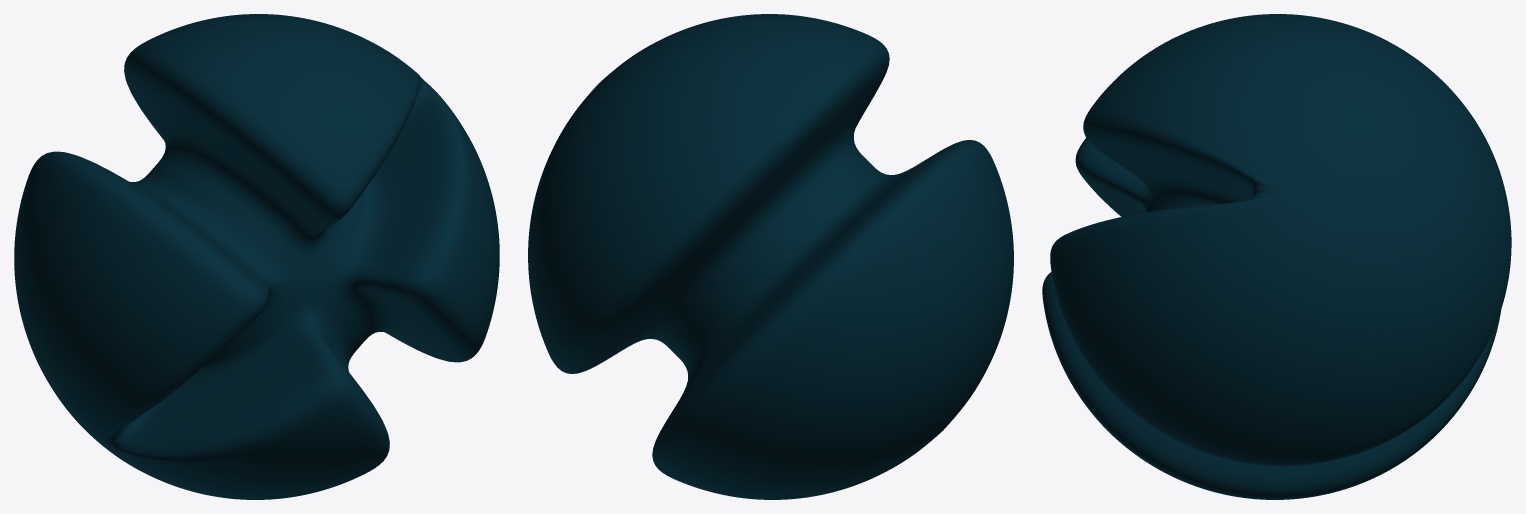
File: home.gltf
The picture shows the model from 3 angles, left to right: view 1: azimuth 30°, elevation 25°; view 2: azimuth 150°, elevation 25°; view 3: azimuth 270°, elevation 25°; orthographic projection.
Visible parts, largest first — view 1: Sphere.018; view 2: Sphere.018; view 3: Sphere.018.
Part boxes in pixels (x1=…): Sphere.018: x1=14, y1=14, x2=499, y2=499; Sphere.018: x1=528, y1=14, x2=1013, y2=499; Sphere.018: x1=1042, y1=14, x2=1511, y2=499.
Bounding box in the file's own units: 5.1 × 5.09 × 4.87.
